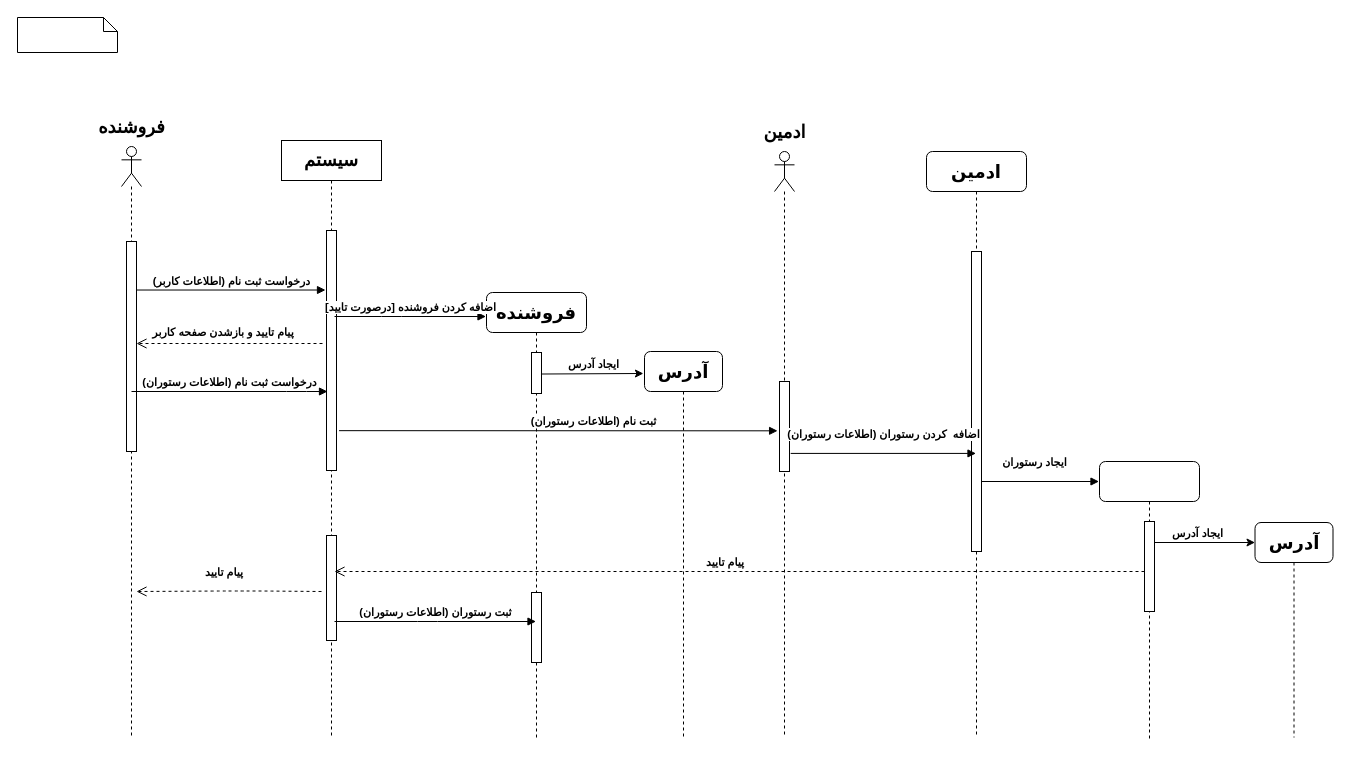
The diagram is 1351 pixels wide and 759 high, and some of its shapes have lost their labels. The centre of each missing label's shape, as x and y in pixels:
"(ثبت نام (رستوران" goes at (x=67, y=34).
"رستوران" goes at (x=1149, y=601).
